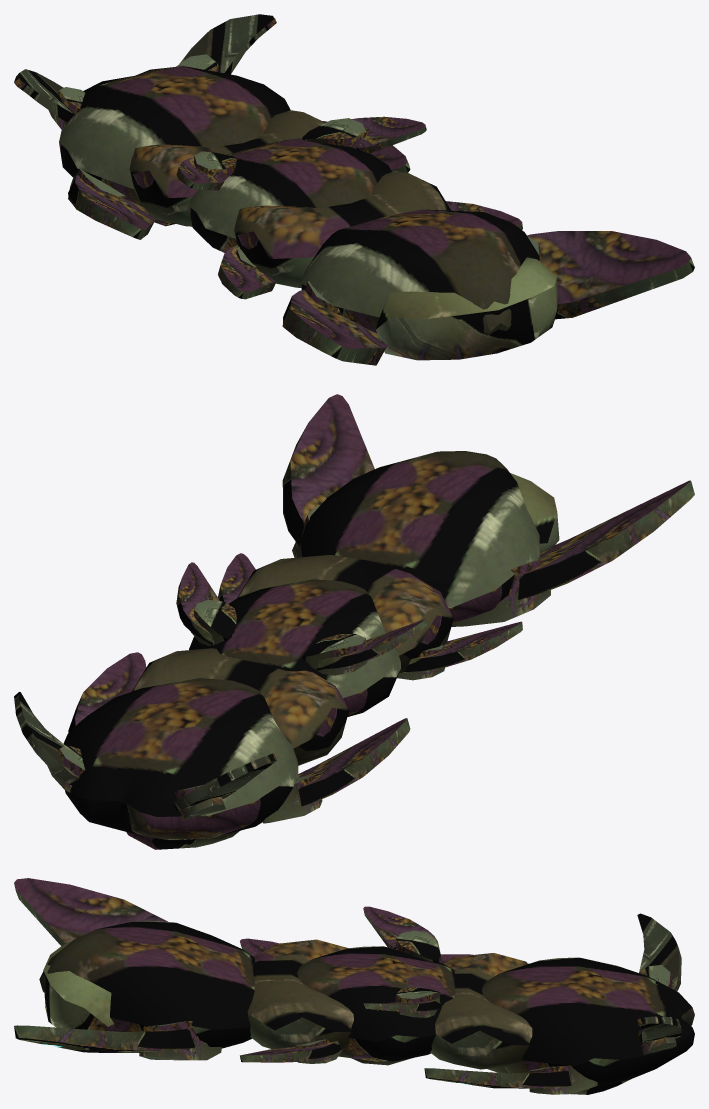
Rendered from ship15h.fbx.
3 views of the same model, one above another, from view 1: azimuth 30°, elevation 25°; view 2: azimuth 150°, elevation 25°; view 3: azimuth 270°, elevation 25° (orthographic). The views are drawn at different scales.
Visible parts, largest first — view 1: PipelineFBX; view 2: PipelineFBX; view 3: PipelineFBX.
Boxes of the visible parts, x1,y1,x2,y2 form: PipelineFBX: [14, 14, 694, 365]; PipelineFBX: [14, 394, 694, 849]; PipelineFBX: [14, 878, 694, 1094].
Bounding box in the file's own units: 118 × 52.94 × 223.
Materials: 1 (1 with a texture image).
